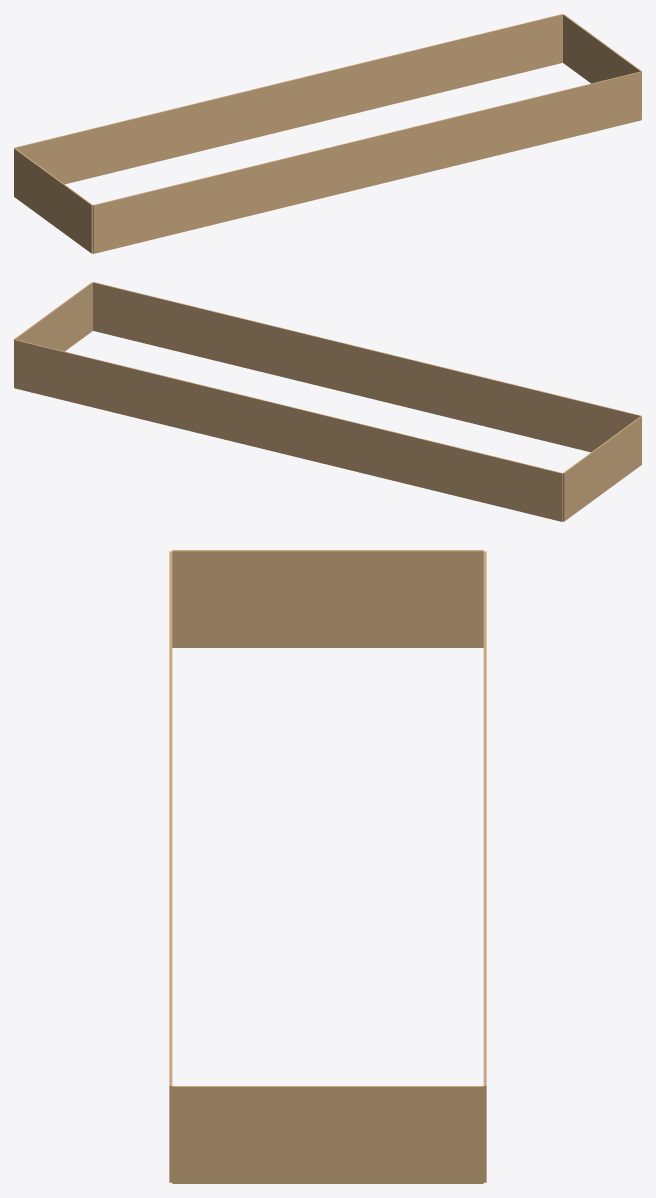
3 renders of one model, top to bottom at view 1: azimuth 30°, elevation 25°; view 2: azimuth 150°, elevation 25°; view 3: azimuth 270°, elevation 25°, orthographic. The views are drawn at different scales.
Visible parts, largest first — view 1: form_6; view 2: form_6; view 3: form_6.
Part boxes in pixels (bbox=[...]): form_6: bbox=[14, 14, 641, 253]; form_6: bbox=[14, 282, 641, 521]; form_6: bbox=[169, 550, 486, 1183].
Size of the model in its own units: 21.44 by 1.8 by 5.35.
